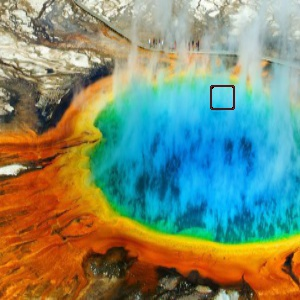square: (208, 84, 236, 111)
